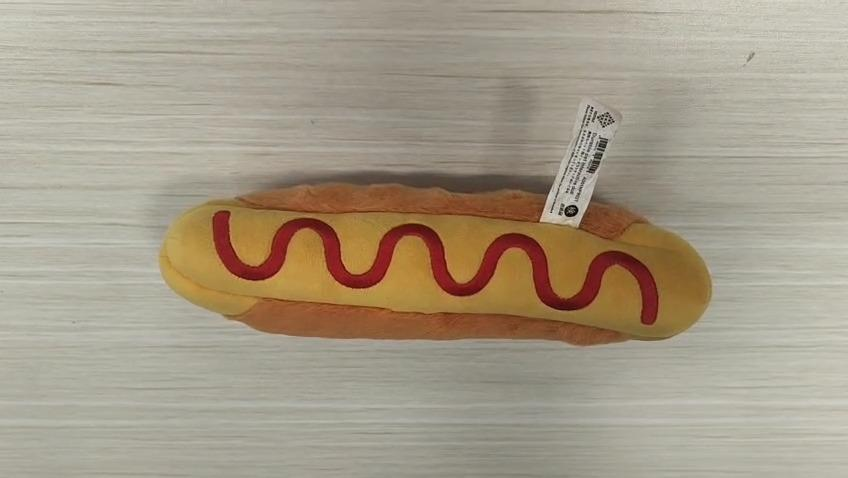hotdog: (158, 180, 713, 346)
